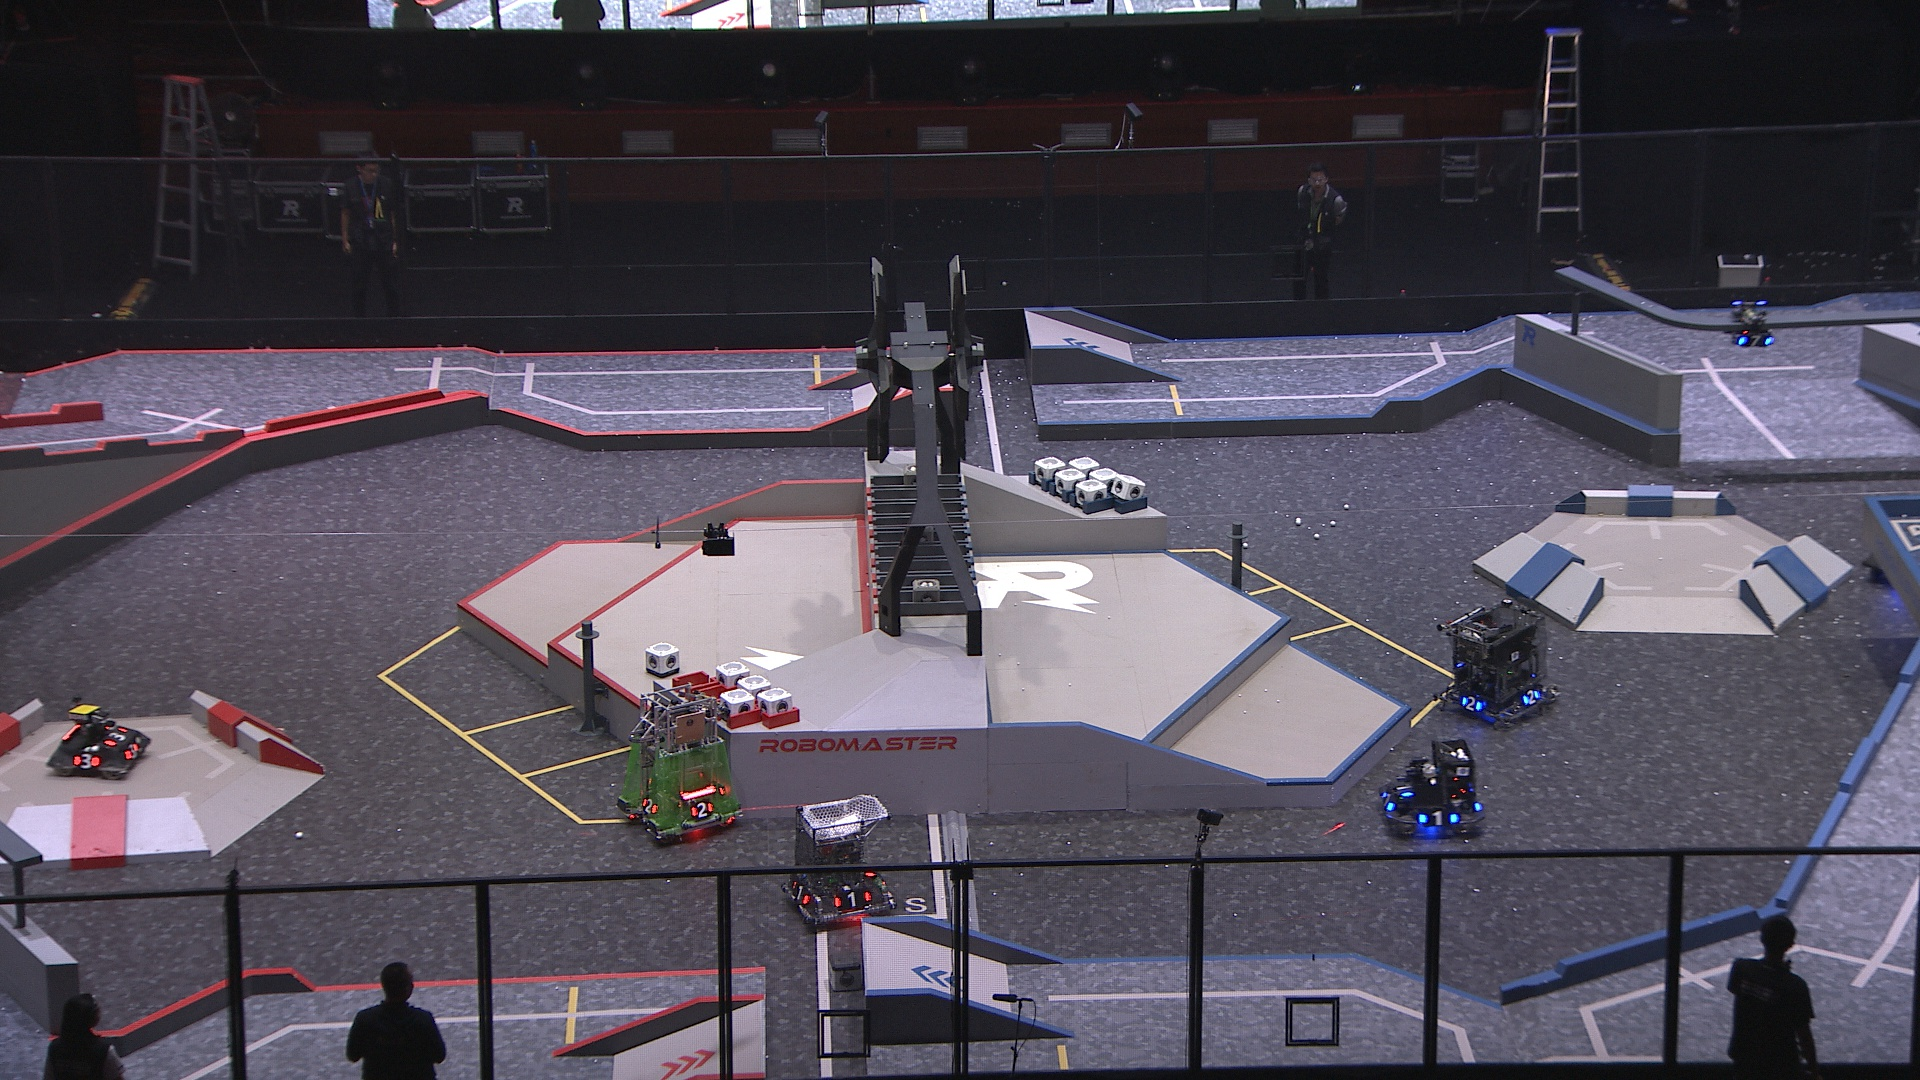armor: (1416, 808, 1461, 829), (833, 891, 874, 910), (1737, 334, 1774, 351), (103, 727, 128, 752), (73, 752, 102, 770), (1394, 778, 1416, 802), (793, 880, 811, 907), (690, 800, 716, 818), (1379, 789, 1396, 814), (124, 742, 141, 764), (1460, 698, 1482, 713), (642, 796, 659, 816), (1522, 690, 1542, 707)
car: (617, 680, 746, 845), (1432, 599, 1560, 728), (783, 793, 899, 928), (1378, 738, 1487, 839), (46, 694, 149, 779)
watcher: (1727, 297, 1775, 351)
